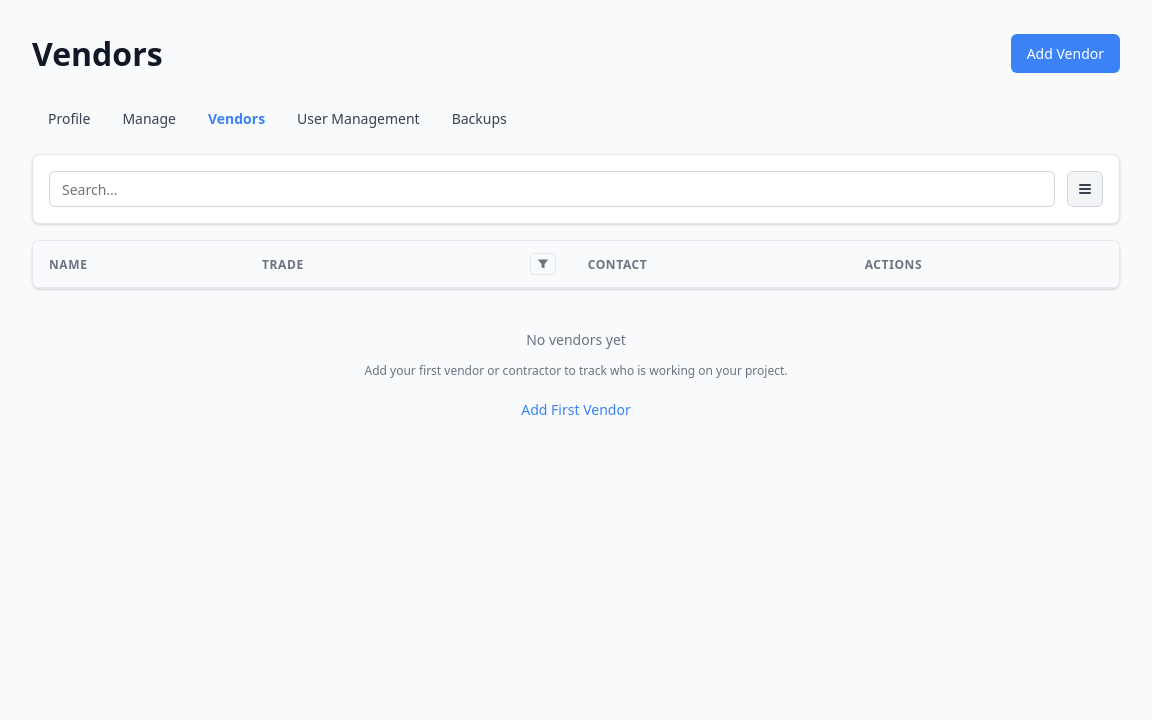
VendorsPage › create vendor modal › shows API error when createVendor fails
The image size is (1152, 720).
Step 1. Click the button with test id "new-vendor-button" → click(1065, 54), box [1011,34,1120,73]
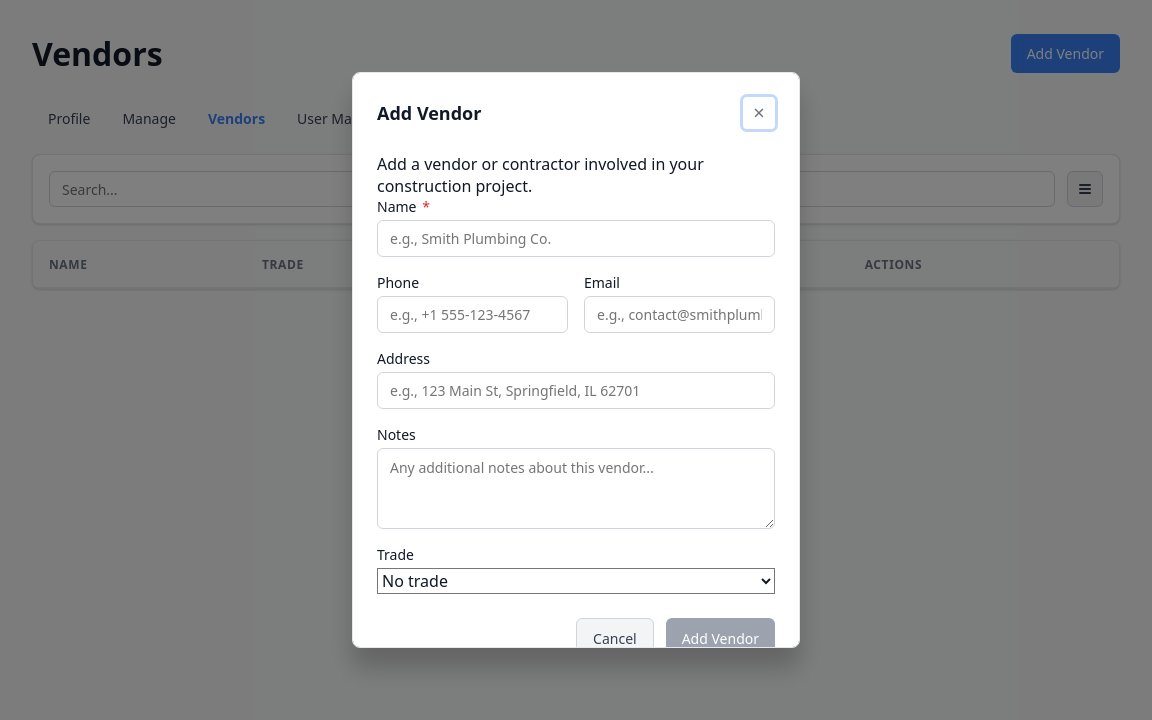
Step 2. Type "Existing Vendor" into the field labelled "Name *" → (576, 238), box [377,220,775,257]
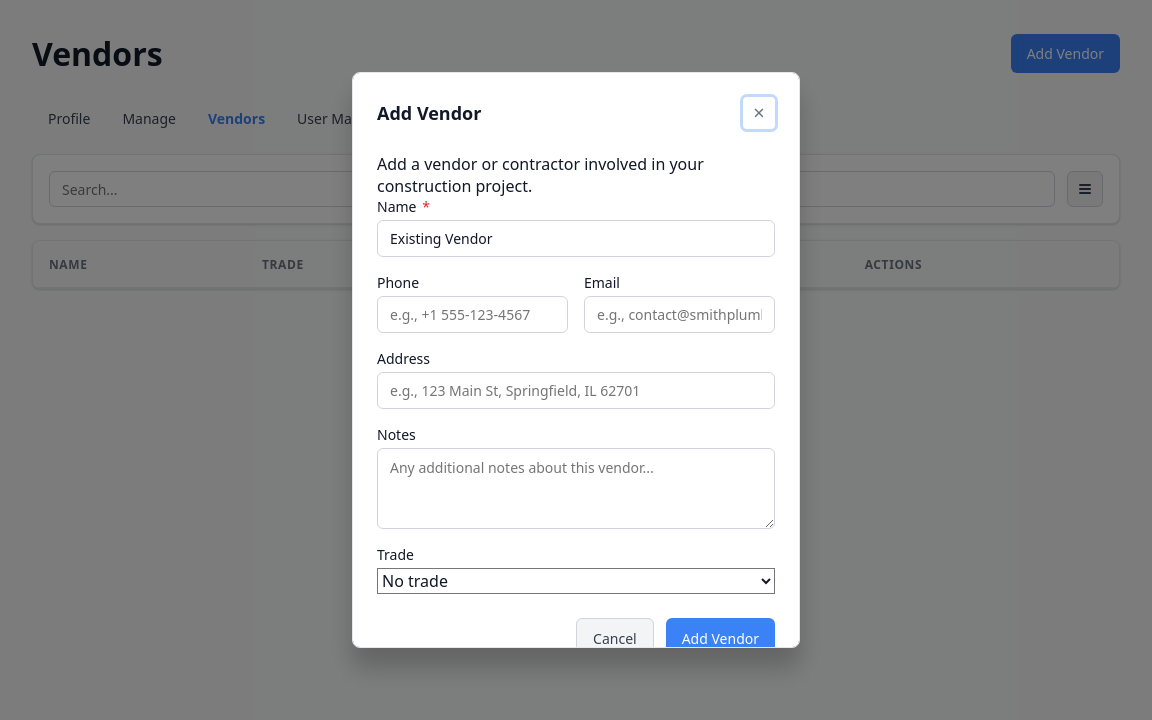
Step 3. Submit the form, box [377,197,775,594]
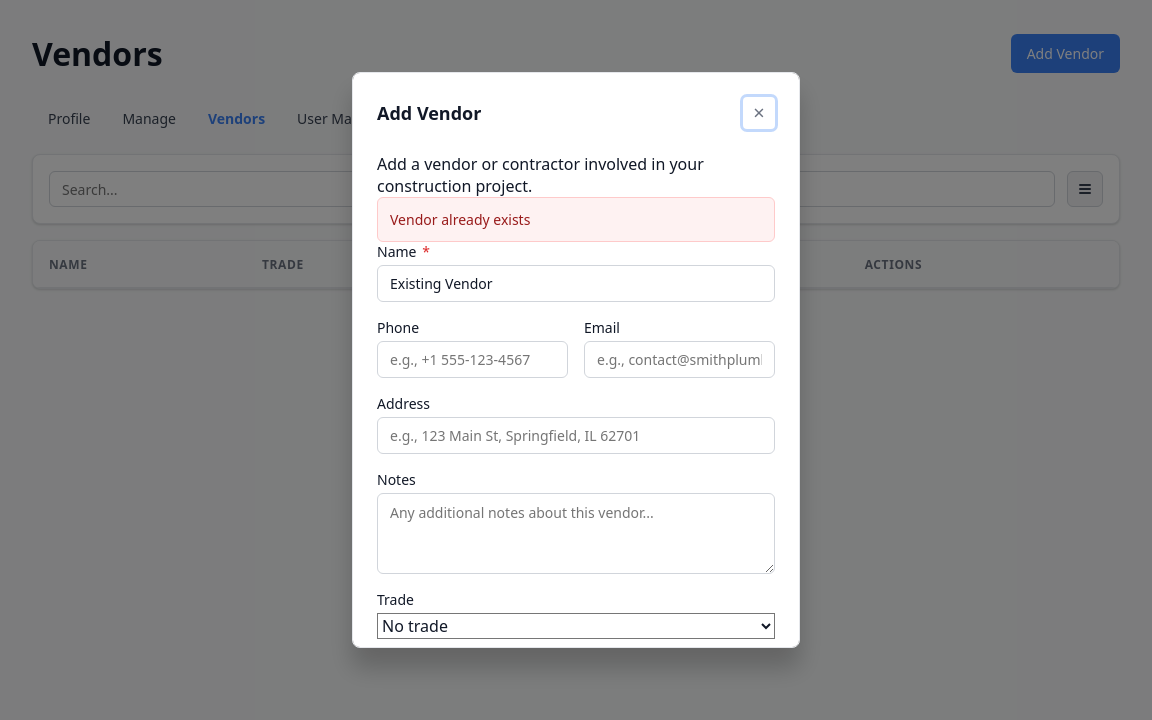
Result: the text "Vendor already exists" is shown at [377,197,775,242]
